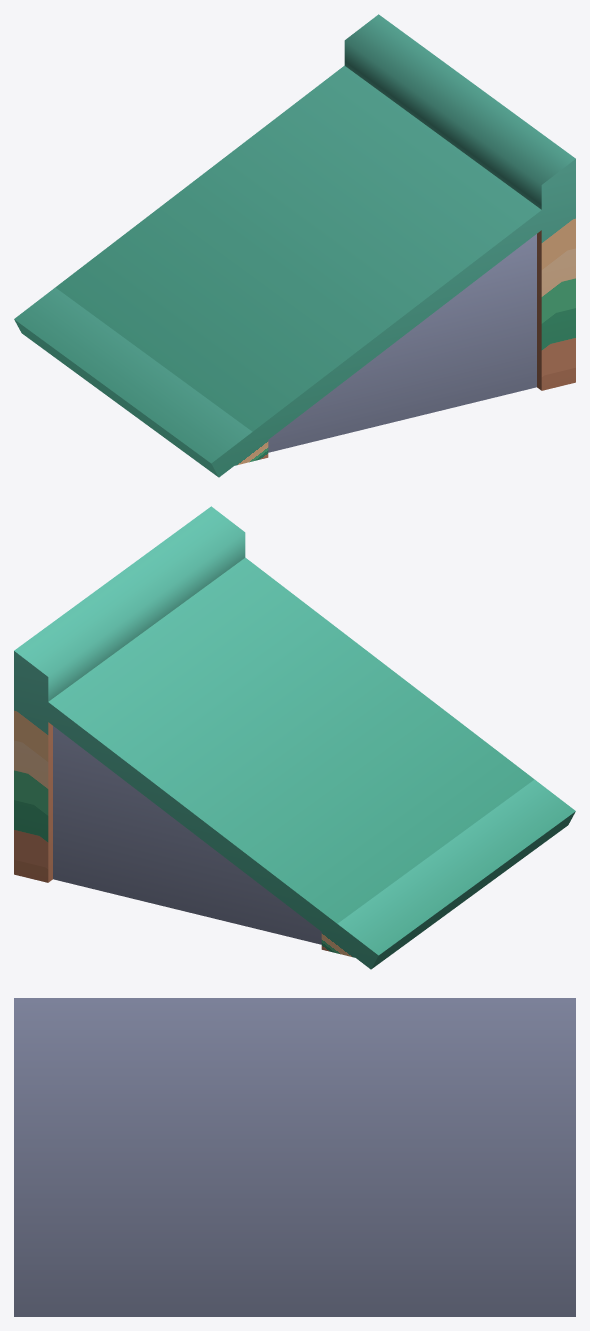
Rendered from roof-kn-roof.glb.
The picture shows the model from 3 angles, top to bottom: view 1: azimuth 30°, elevation 25°; view 2: azimuth 150°, elevation 25°; view 3: azimuth 270°, elevation 25°; orthographic projection. The views are drawn at different scales.
Visible parts, largest first — view 1: roof; view 2: roof; view 3: roof.
Part boxes in pixels (x1,y1,x2,y2): roof: [14, 14, 575, 477]; roof: [14, 506, 575, 969]; roof: [14, 998, 575, 1316].
Size of the model in its own units: 3.2 by 1.94 by 3.
1 material, 1 textured.
